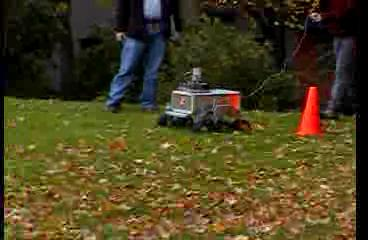trafficcone: (291, 84, 326, 140)
